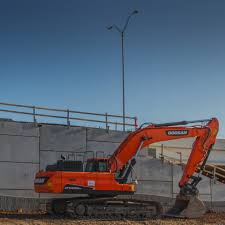excavator: (34, 117, 220, 219)
